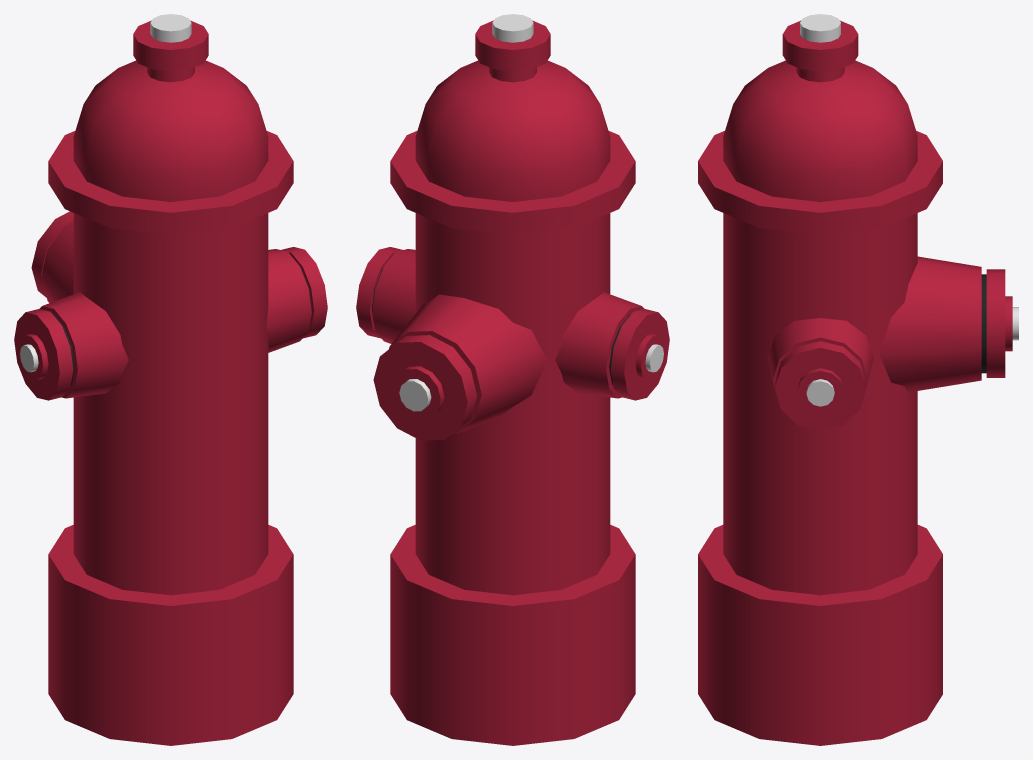
The model's file is FireHydrant1.fbx.
3 views of the same model, side by side, from view 1: azimuth 30°, elevation 25°; view 2: azimuth 150°, elevation 25°; view 3: azimuth 270°, elevation 25° (orthographic).
Parts seen in each view (by area): view 1: Гидрант.006; view 2: Гидрант.006; view 3: Гидрант.006.
Boxes of the visible parts, <box> form: Гидрант.006: <box>14,14,327,745</box>; Гидрант.006: <box>356,14,669,745</box>; Гидрант.006: <box>698,14,1018,745</box>.
Bounding box in the file's own units: 67.83 × 151 × 65.47.
